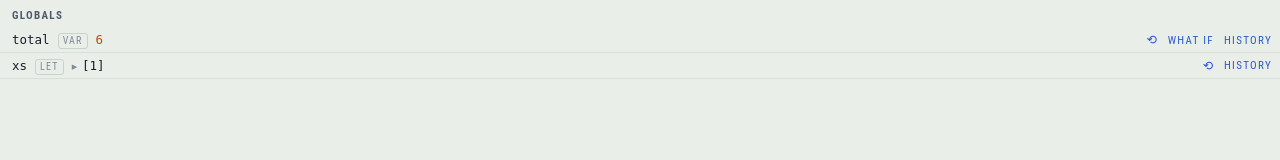
Test: what-if editing in the Variables panel › the button opens an editor prefilled with the literal; Enter forks at the pen
Click the button with aria-label "What if total were different": (1191, 41) [1164, 31, 1218, 50]
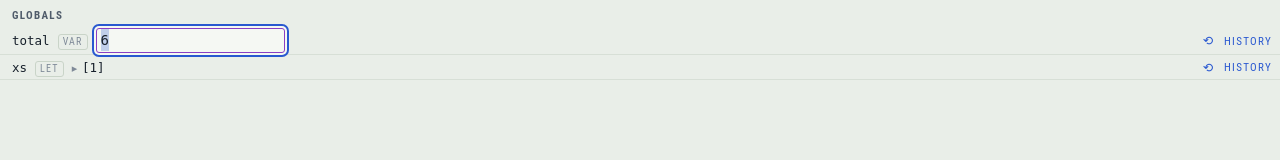
Result: the field named "What if total were" holds "6"
Replace the text in the field named "What if total were" with "oops": (190, 41) [96, 28, 285, 53]
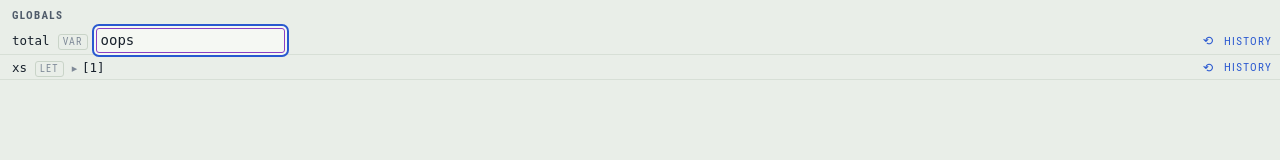
Press Enter in the field named "What if total were", box [96, 28, 285, 53]
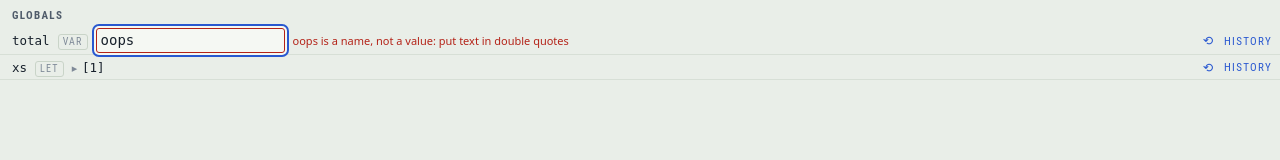
Result: the text "oops is a name, not a value: put text in double quotes" is shown at [293, 33, 569, 49]
Replace the text in the field named "What if total were (Enter replays from here, Escape cancels;" with "-2.5": (190, 41) [96, 28, 285, 53]
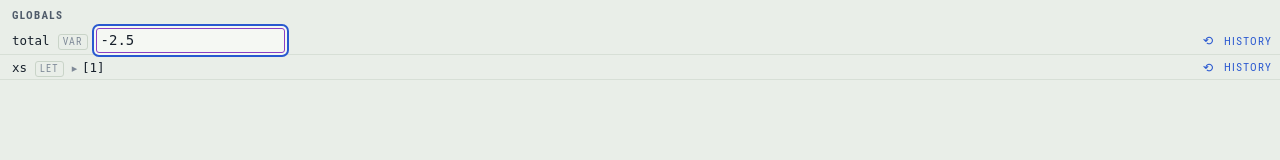
Press Enter in the field named "What if total were (Enter replays from here, Escape cancels;", box [96, 28, 285, 53]
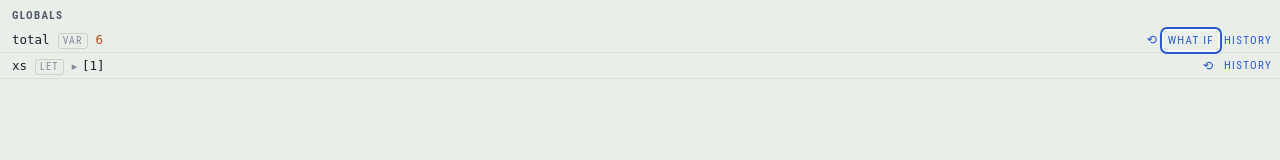
Result: the field is gone
